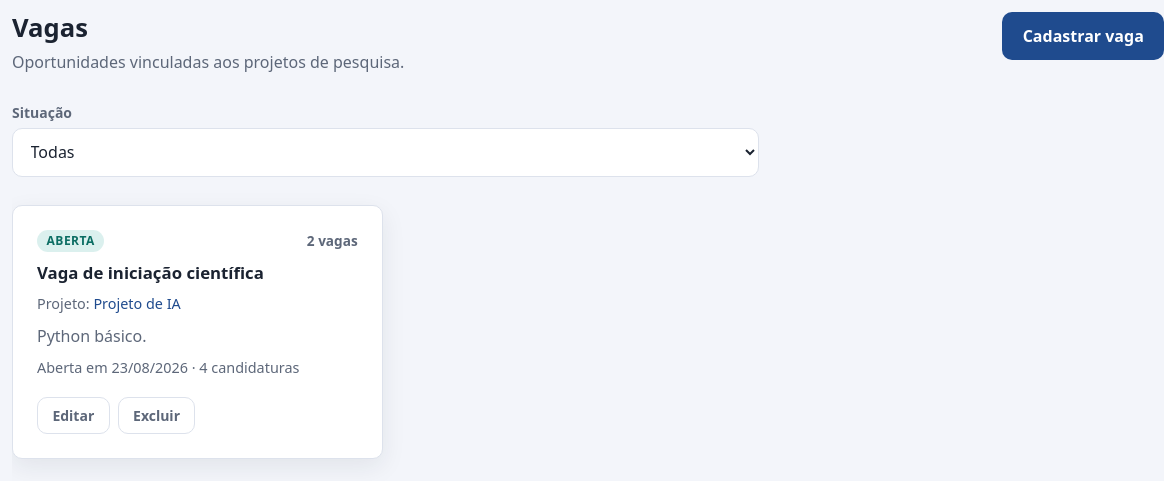
Test: Tela de vagas › pesquisador pode editar e excluir uma vaga após confirmação
The width and height of the screenshot is (1164, 481).
Click the button "Excluir" at x=157, y=415, box [118,396,195,434]
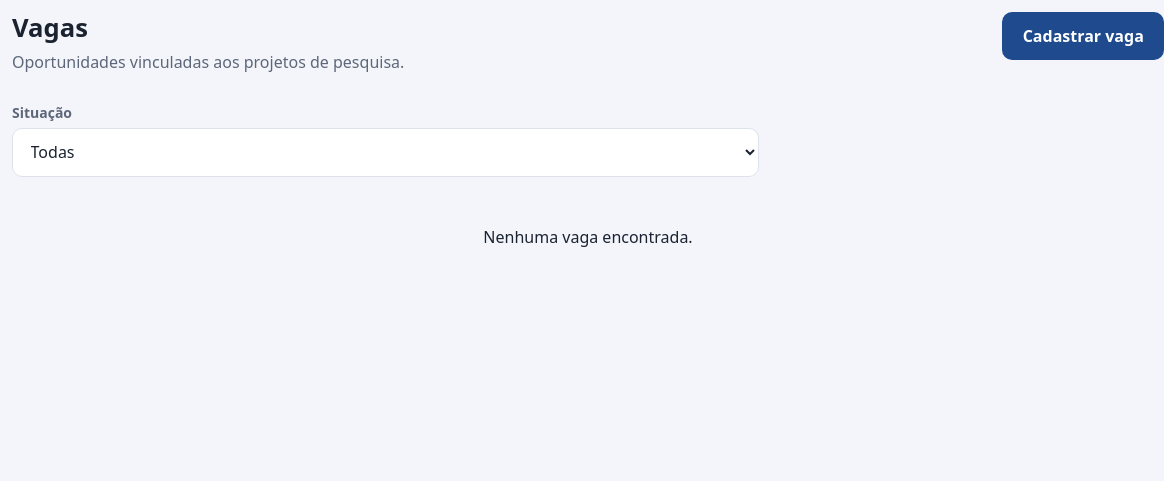
Now the heading "Vaga de iniciação científica" is gone
